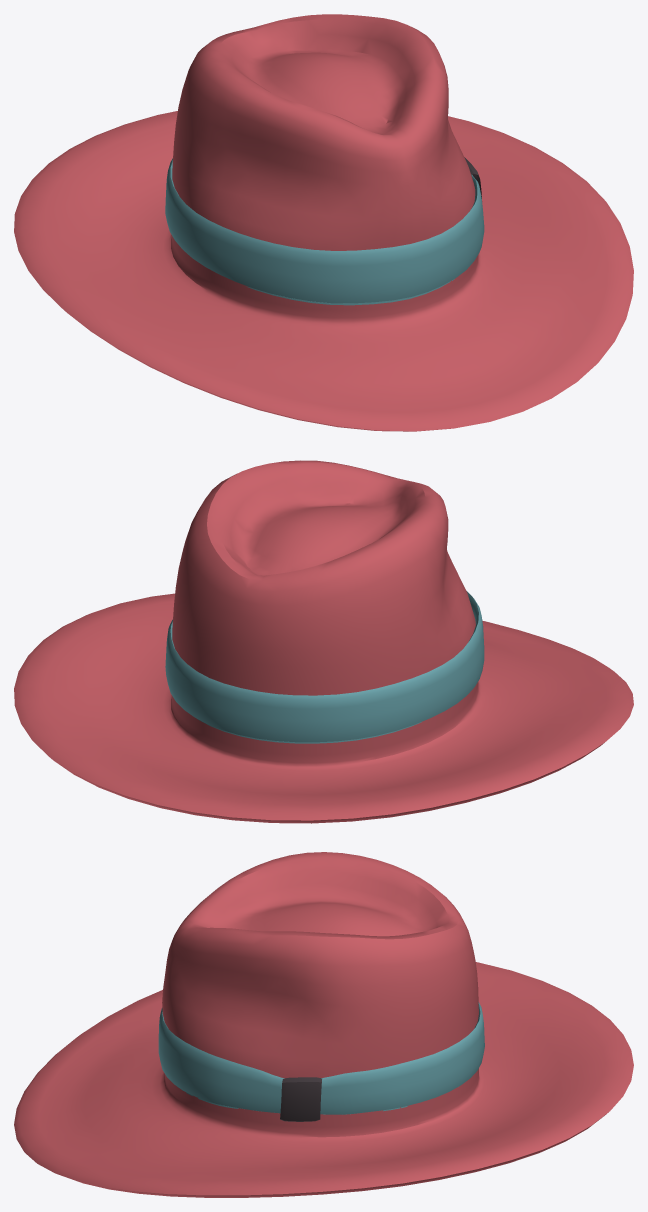
File: Fedora.gltf
The picture shows the model from 3 angles, top to bottom: view 1: azimuth 30°, elevation 25°; view 2: azimuth 150°, elevation 25°; view 3: azimuth 270°, elevation 25°; orthographic projection. The views are drawn at different scales.
Visible parts, largest first — view 1: hat6-PBR (×2); view 2: hat6-PBR (×2); view 3: hat6-PBR (×2), hat6-PBR.1.
Part boxes in pixels (left/top/right/bottom): hat6-PBR (×2): left=14, top=14, right=633, bottom=431; hat6-PBR (×2): left=14, top=460, right=633, bottom=823; hat6-PBR (×2): left=14, top=852, right=633, bottom=1197; hat6-PBR.1: left=280, top=1077, right=322, bottom=1121.
Size of the model in its own units: 11.69 by 5.35 by 12.86.
